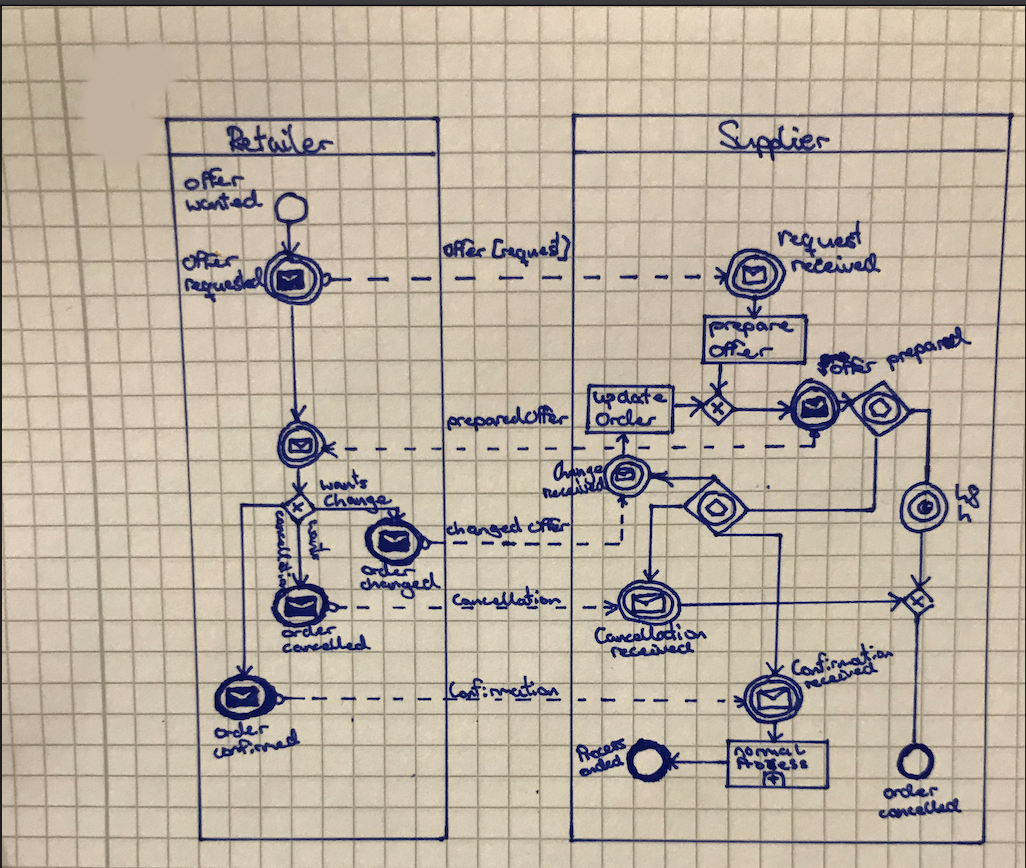48: (955, 474, 985, 506)
Change: (550, 450, 604, 481)
Confirmation: (789, 640, 896, 675), (446, 676, 564, 698)
Order: (595, 407, 662, 429)
Process: (573, 732, 630, 766)
Prozess: (734, 759, 810, 770)
Retailer: (223, 124, 334, 156)
Supplier: (714, 117, 832, 159)
[request]: (491, 234, 573, 263)
cancellation: (593, 622, 709, 645), (449, 584, 562, 607), (269, 506, 295, 589)
cancelled: (873, 792, 962, 821), (281, 635, 378, 654)
change: (318, 490, 399, 514)
changed: (356, 573, 439, 599), (447, 513, 521, 539)
confirmed: (213, 727, 304, 763)
ended: (573, 757, 628, 775)
h: (954, 501, 976, 530)
normal: (734, 741, 809, 759)
offer: (178, 245, 244, 276), (184, 166, 246, 193), (706, 340, 779, 359), (438, 237, 483, 263), (525, 510, 568, 537), (829, 357, 877, 377)
order: (358, 559, 416, 579), (879, 783, 943, 801), (212, 719, 269, 739), (281, 622, 334, 637)
prepare: (707, 319, 793, 337)
prepared: (884, 327, 969, 373)
preparedOffer: (441, 403, 570, 428)
received: (802, 662, 879, 694), (789, 252, 883, 275), (610, 641, 697, 659), (542, 481, 609, 497)
request: (773, 227, 865, 251)
requested: (183, 269, 265, 303)
update: (591, 386, 668, 411)
wanted: (186, 190, 267, 217)
wants: (318, 468, 369, 489), (305, 514, 326, 562)
